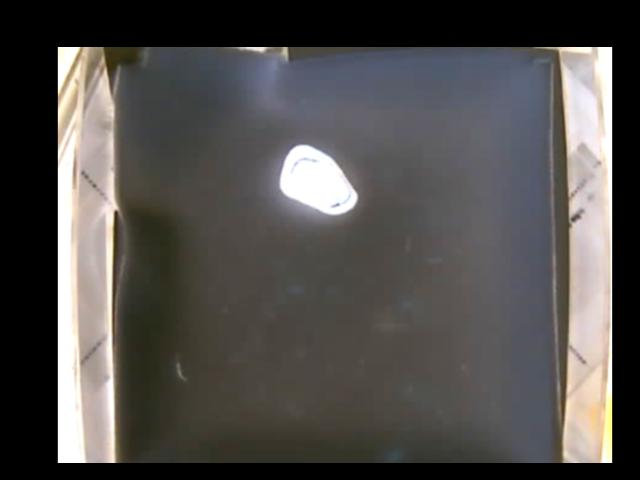Pebble: (277, 144, 358, 215)
